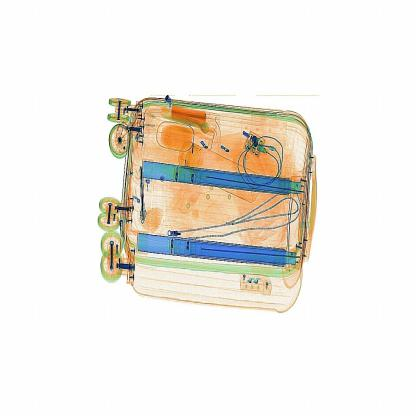knife: (136, 165, 150, 222)
